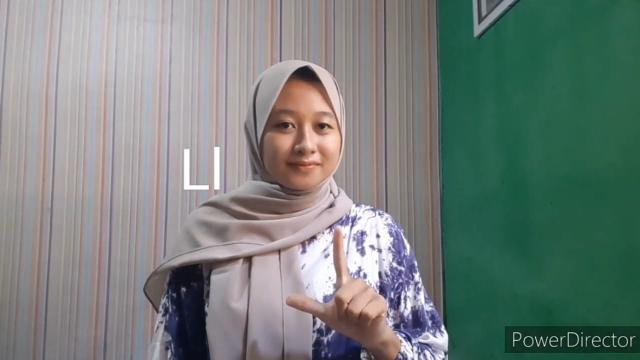L: (287, 222, 397, 348)
